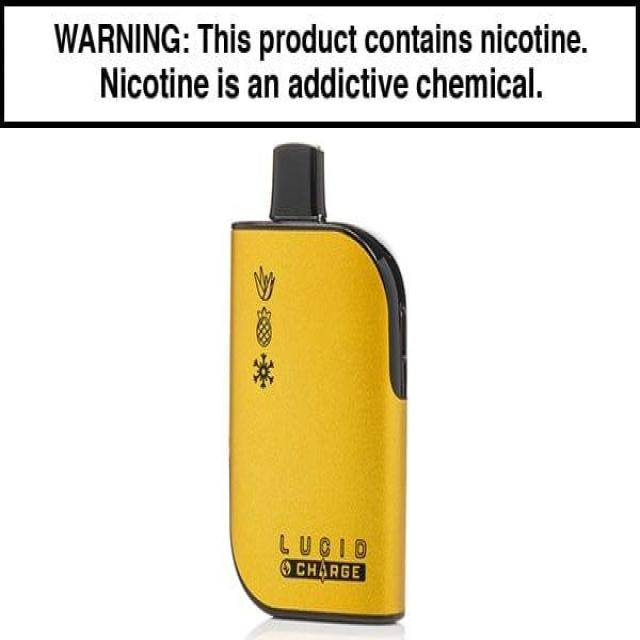Vapes: (227, 141, 409, 624)
